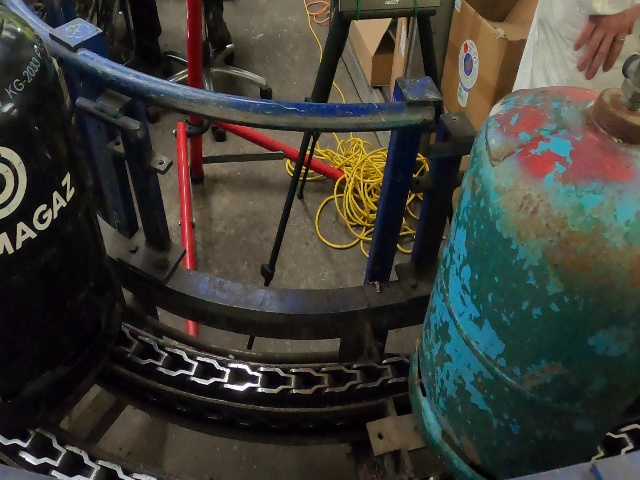gas_bottle: (0, 0, 634, 475)
